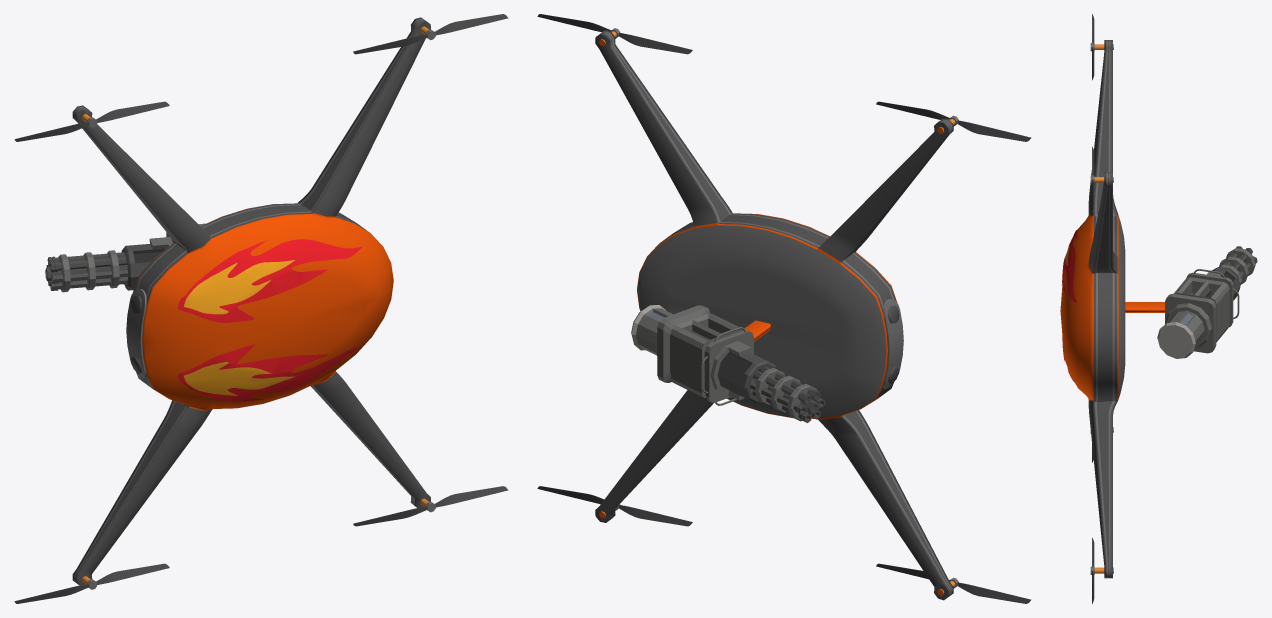
Rendered from NewDrone.obj.
3 renders of one model, left to right at view 1: azimuth 30°, elevation 25°; view 2: azimuth 150°, elevation 25°; view 3: azimuth 270°, elevation 25°, orthographic. The views are drawn at different scales.
Parts seen in each view (by area): view 1: Lowpoly_army_drone, gun, rotor.004, rotor.003, rotor.001, rotor.002; view 2: Lowpoly_army_drone, gun, rotor.003, rotor.004, rotor.002, rotor.001; view 3: Lowpoly_army_drone, gun.
Boxes of the visible parts, x1,y1,x2,y2 form: Lowpoly_army_drone: (72,17,430,585); gun: (45,223,205,292); rotor.004: (353,14,508,54); rotor.003: (14,101,169,141); rotor.001: (14,563,169,603); rotor.002: (353,486,508,526); Lowpoly_army_drone: (595,30,955,600); gun: (631,305,825,422); rotor.003: (876,101,1031,141); rotor.004: (537,14,692,54); rotor.002: (537,486,692,526); rotor.001: (876,563,1031,603); Lowpoly_army_drone: (1060,40,1164,578); gun: (1157,246,1257,358).
Size of the model in its own units: 0.9315 by 0.8791 by 0.3887.
Materials: 1 (1 with a texture image).
